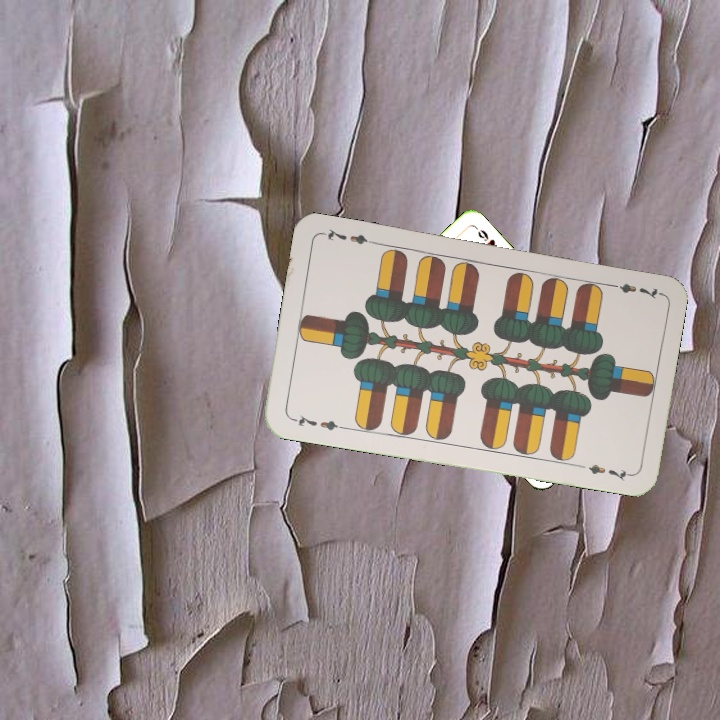E7: (603, 279, 662, 302), (287, 411, 346, 433)
